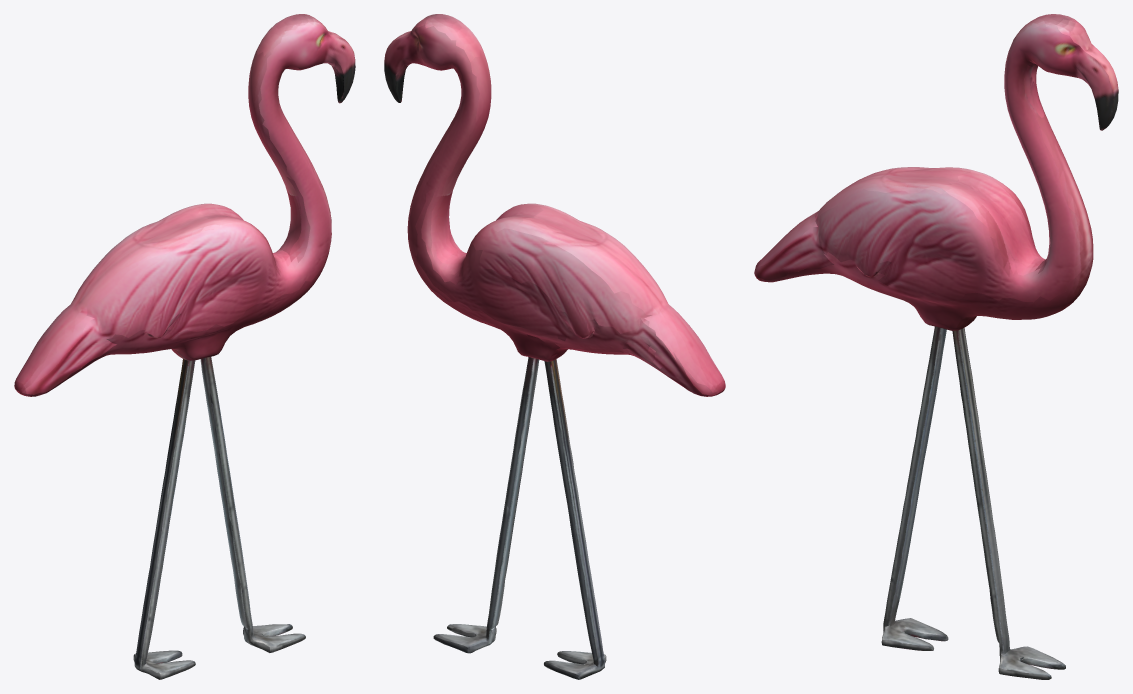
File: flamingo.glb
3 renders of one model, left to right at view 1: azimuth 30°, elevation 25°; view 2: azimuth 150°, elevation 25°; view 3: azimuth 330°, elevation 25°, orthographic. The views are drawn at different scales.
Parts seen in each view (by area): view 1: geometry_0; view 2: geometry_0; view 3: geometry_0.
Boxes of the visible parts, x1,y1,x2,y2 form: geometry_0: (14, 14, 355, 679); geometry_0: (384, 14, 725, 679); geometry_0: (754, 14, 1118, 679).
Size of the model in its own units: 0.4342 by 0.76 by 0.0949.
1 material, 1 textured.
